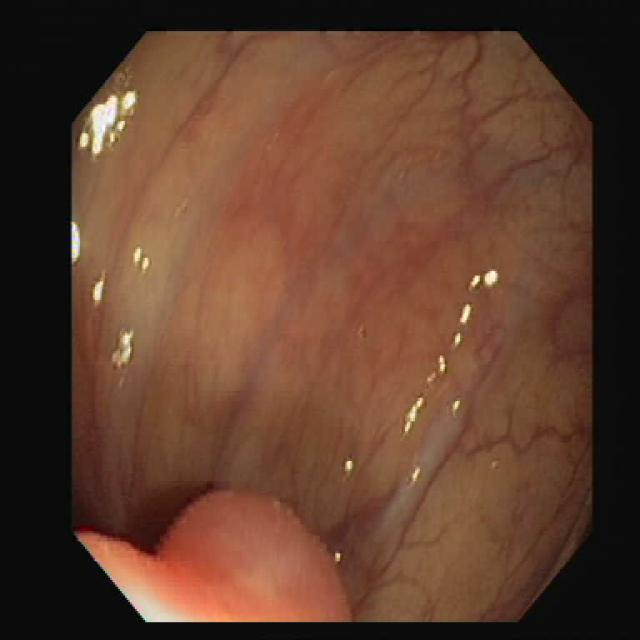tumor: (78, 484, 352, 620)
